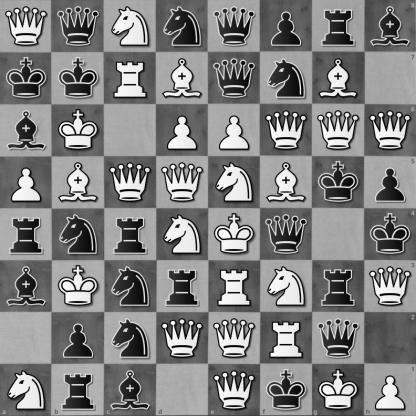B: (53, 157, 104, 208), (157, 53, 208, 104), (261, 157, 312, 208), (313, 53, 364, 104)
K: (312, 364, 364, 416), (53, 105, 104, 156), (53, 261, 104, 312), (209, 209, 260, 260)
N: (0, 364, 52, 416), (105, 1, 156, 52), (157, 209, 208, 260), (209, 157, 260, 208), (261, 261, 312, 312)
P: (364, 364, 416, 416), (1, 157, 52, 208), (157, 105, 208, 156), (209, 105, 260, 156)
Q: (364, 104, 416, 156), (364, 260, 416, 312), (209, 364, 260, 416), (1, 1, 52, 52), (105, 157, 156, 208), (157, 157, 208, 208), (157, 313, 208, 364), (209, 313, 260, 364), (261, 105, 312, 156), (313, 105, 364, 156)
R: (105, 53, 156, 104), (209, 261, 260, 312), (261, 313, 312, 364)
b: (104, 364, 156, 416), (364, 0, 416, 52), (1, 105, 52, 156), (1, 261, 52, 312)
board: (0, 0, 415, 415)
k: (260, 364, 312, 416), (364, 209, 416, 260), (1, 53, 52, 104), (53, 53, 104, 104), (313, 157, 364, 208)
n: (53, 209, 104, 260), (105, 261, 156, 312), (105, 313, 156, 364), (157, 1, 208, 52), (261, 53, 312, 104)
p: (364, 156, 416, 209), (53, 313, 104, 364), (261, 1, 312, 52)
q: (53, 1, 104, 52), (209, 1, 260, 52), (209, 53, 260, 104), (261, 209, 312, 260), (313, 313, 364, 364)
r: (52, 364, 104, 416), (1, 209, 52, 260), (105, 209, 156, 260), (157, 261, 208, 312), (313, 1, 364, 52), (313, 261, 364, 312)
